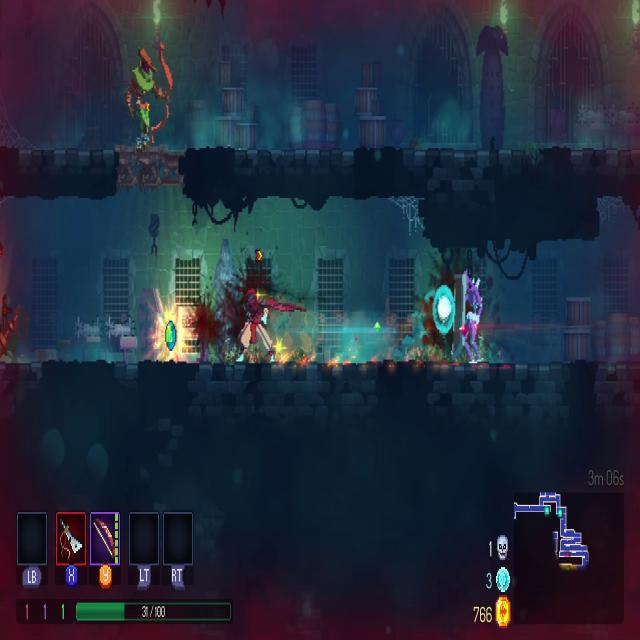agents: (240, 289, 278, 362)
enemy_archer: (129, 46, 171, 144)
enemy_purple_shield: (449, 272, 482, 368)
